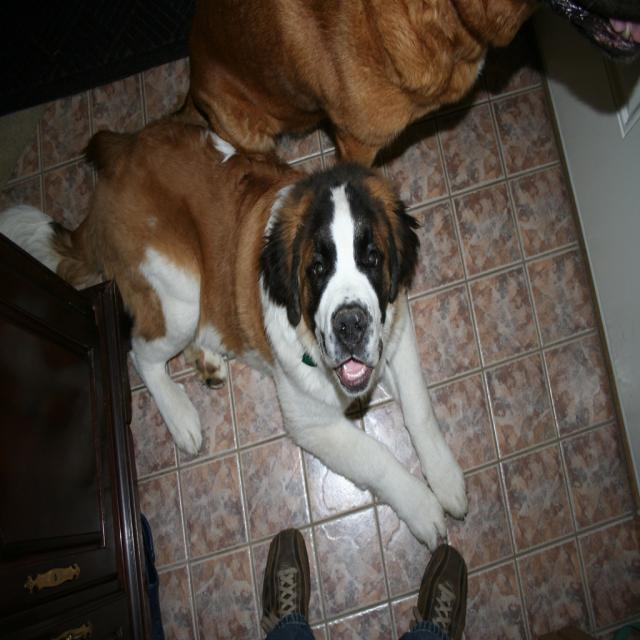Dog: (0, 117, 469, 554), (162, 0, 546, 168)
